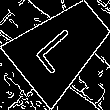L_NE: (33, 19, 89, 75)
